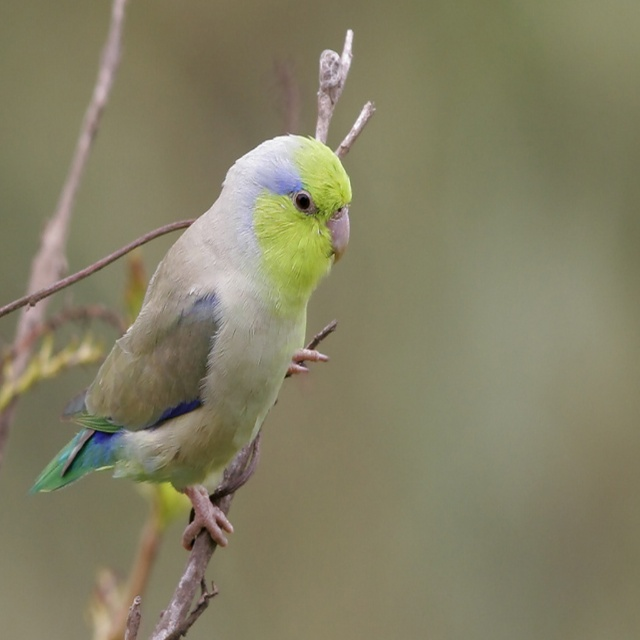Parrot: (32, 132, 350, 548)
